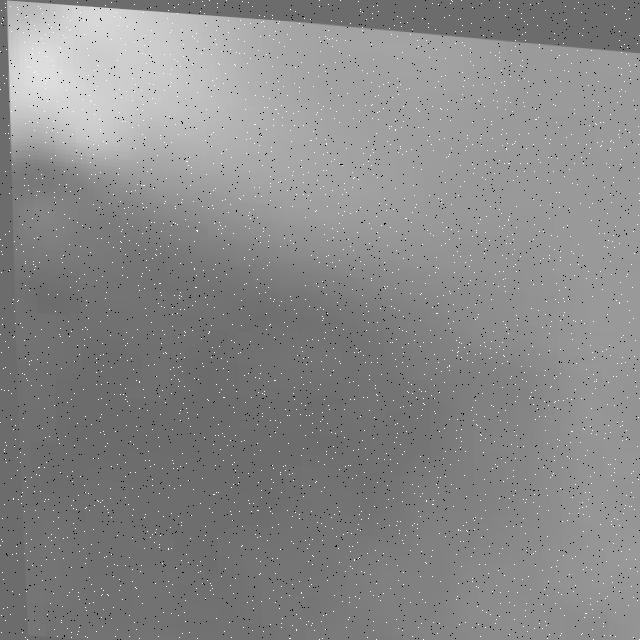person: (3, 1, 375, 200)
